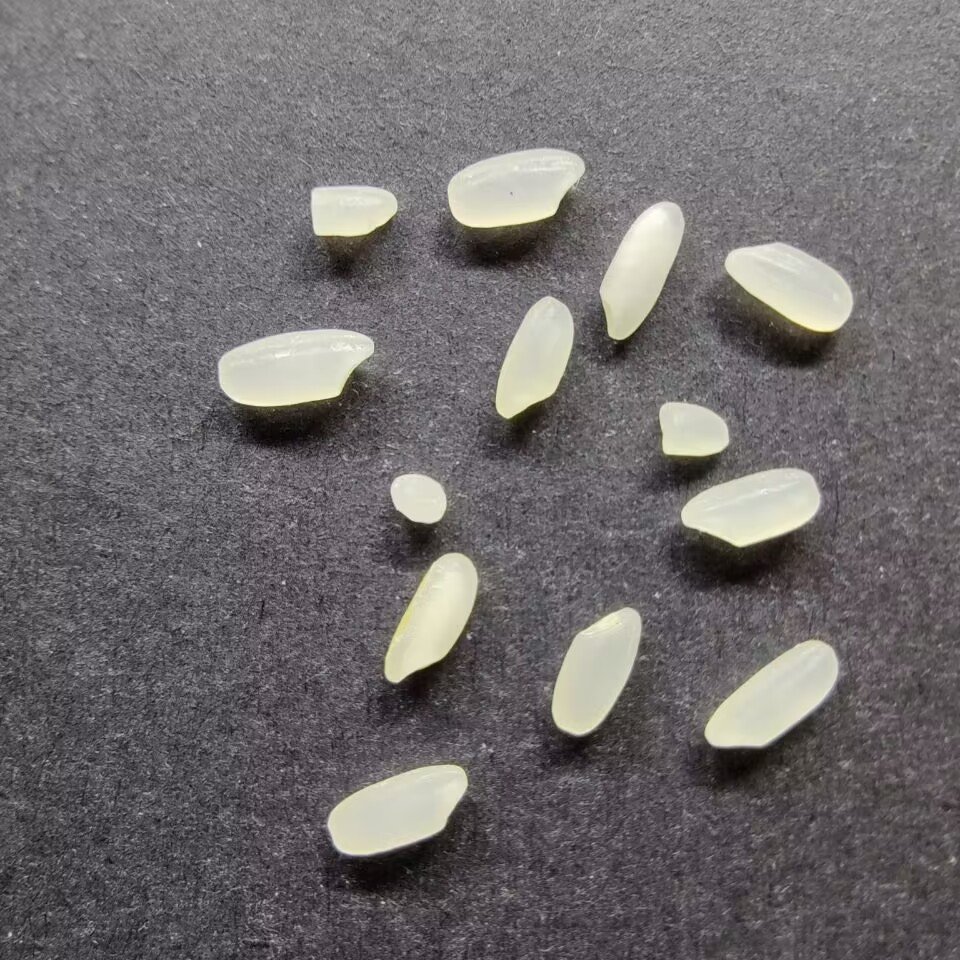broken: (308, 182, 399, 239), (657, 398, 731, 458), (389, 471, 448, 526)
rice: (702, 639, 840, 751), (326, 761, 468, 857), (380, 551, 479, 686), (216, 327, 375, 408), (596, 199, 685, 341), (722, 240, 853, 333), (550, 603, 641, 736), (446, 145, 586, 229), (680, 466, 821, 548), (492, 294, 575, 420)
